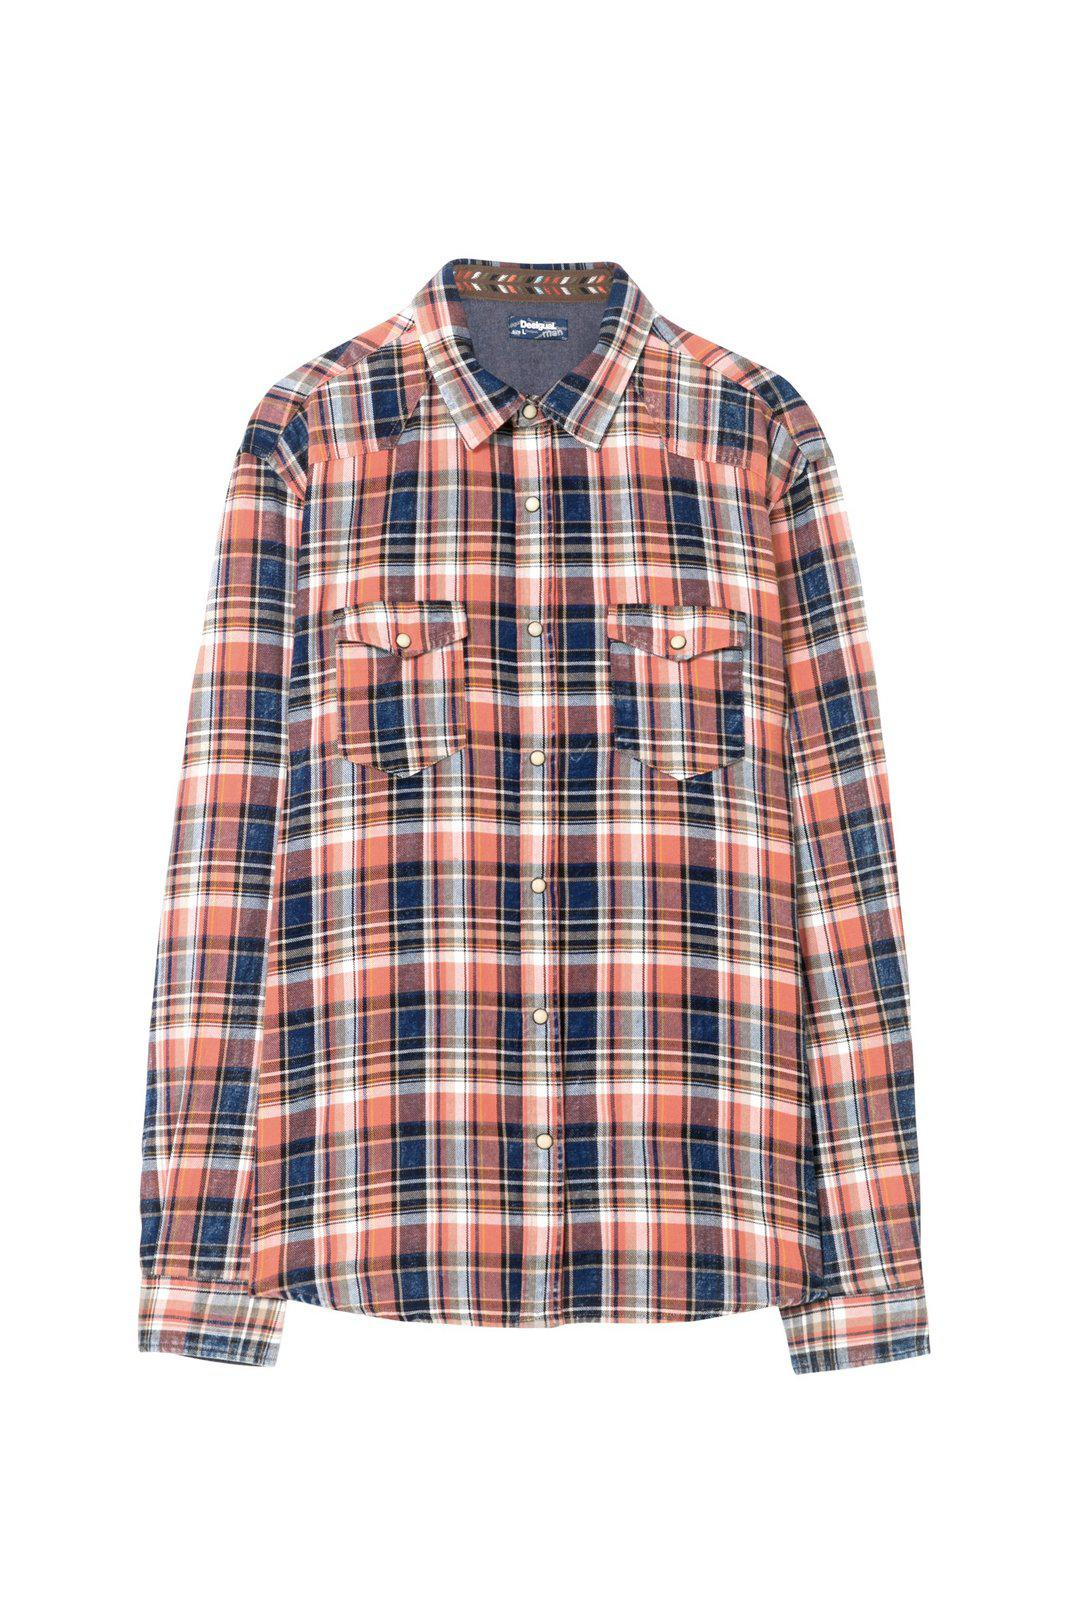teeshirt: (128, 260, 941, 1462)
